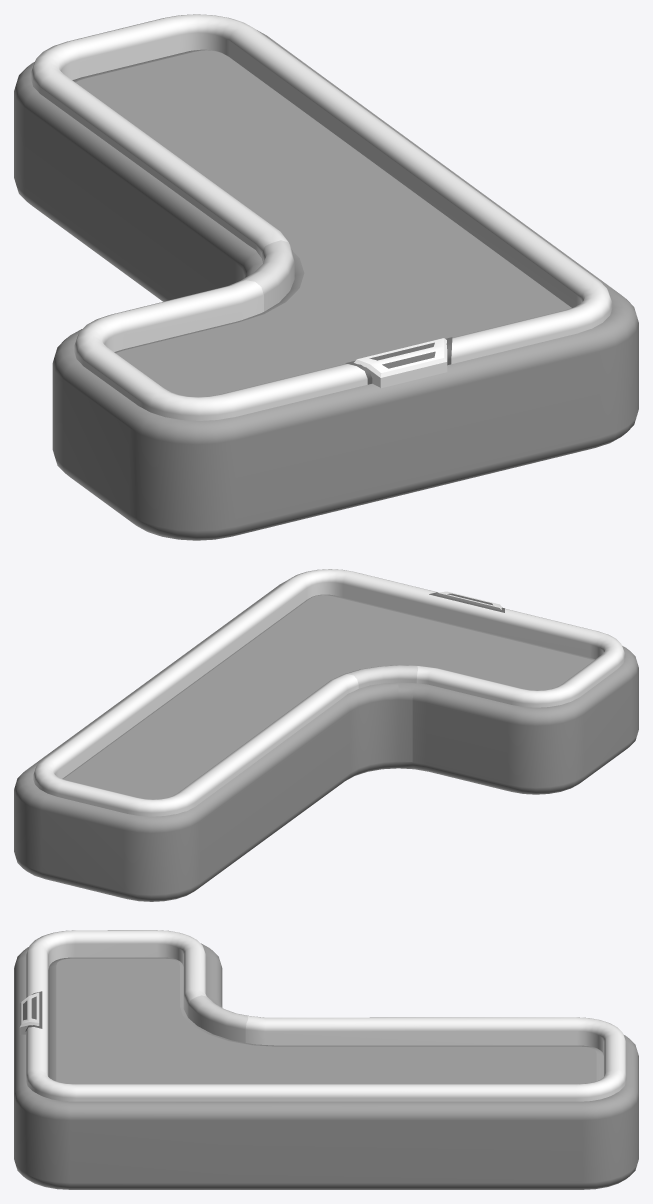
File: Model_Block_L_Long_Revert_New.fbx
The picture shows the model from 3 angles, top to bottom: view 1: azimuth 30°, elevation 25°; view 2: azimuth 150°, elevation 25°; view 3: azimuth 270°, elevation 25°; orthographic projection. The views are drawn at different scales.
Parts seen in each view (by area): view 1: BLL_R_BG, BLL_R_Water, BLL_R_Stroke; view 2: BLL_R_BG, BLL_R_Water, BLL_R_Stroke; view 3: BLL_R_BG, BLL_R_Water, BLL_R_Stroke.
Boxes of the visible parts, x1=… form: BLL_R_BG: x1=14, y1=30, x2=638, y2=540; BLL_R_Water: x1=72, y1=49, x2=571, y2=397; BLL_R_Stroke: x1=30, y1=14, x2=612, y2=420; BLL_R_BG: x1=14, y1=581, x2=638, y2=901; BLL_R_Water: x1=62, y1=594, x2=594, y2=799; BLL_R_Stroke: x1=33, y1=569, x2=625, y2=816; BLL_R_BG: x1=14, y1=943, x2=638, y2=1189; BLL_R_Water: x1=48, y1=957, x2=603, y2=1084; BLL_R_Stroke: x1=19, y1=930, x2=626, y2=1101.
Bounding box in the file's own units: 197 × 51.35 × 296.
Materials: 2 (1 with a texture image).
